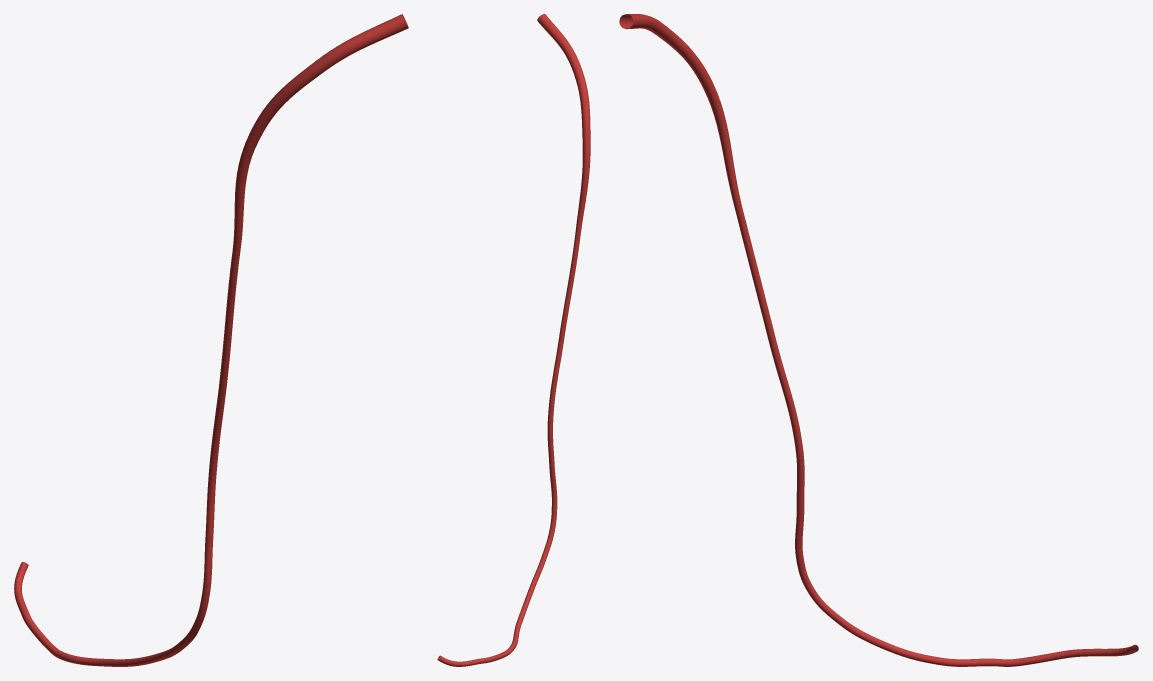
3 renders of one model, left to right at view 1: azimuth 30°, elevation 25°; view 2: azimuth 150°, elevation 25°; view 3: azimuth 270°, elevation 25°, orthographic. The views are drawn at different scales.
Visible parts, largest first — view 1: 左侧蝶腭动脉鼻中隔后支; view 2: 左侧蝶腭动脉鼻中隔后支; view 3: 左侧蝶腭动脉鼻中隔后支.
Part boxes in pixels (x1=…): 左侧蝶腭动脉鼻中隔后支: x1=14, y1=14, x2=408, y2=666; 左侧蝶腭动脉鼻中隔后支: x1=437, y1=14, x2=590, y2=666; 左侧蝶腭动脉鼻中隔后支: x1=619, y1=14, x2=1138, y2=666.
Bounding box in the file's own units: 0.0135 × 0.0619 × 0.0404.
